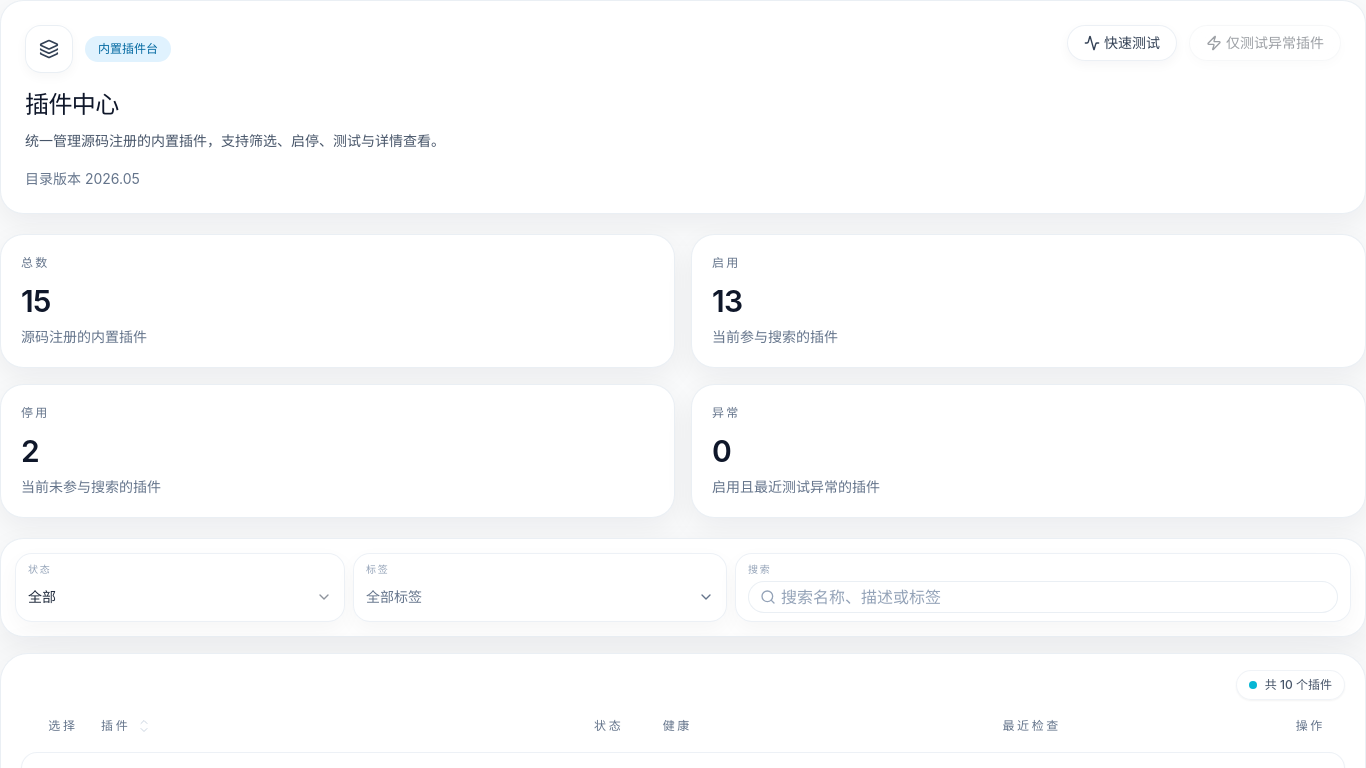
Scenario: PluginManagementView › 支持在筛选框内直接新增插件标签
The image size is (1366, 768).
Expected: the heading "插件中心" is shown, [25, 90, 119, 119]
Click the button with aria-label "插件标签筛选" at (394, 596), box [366, 581, 714, 613]
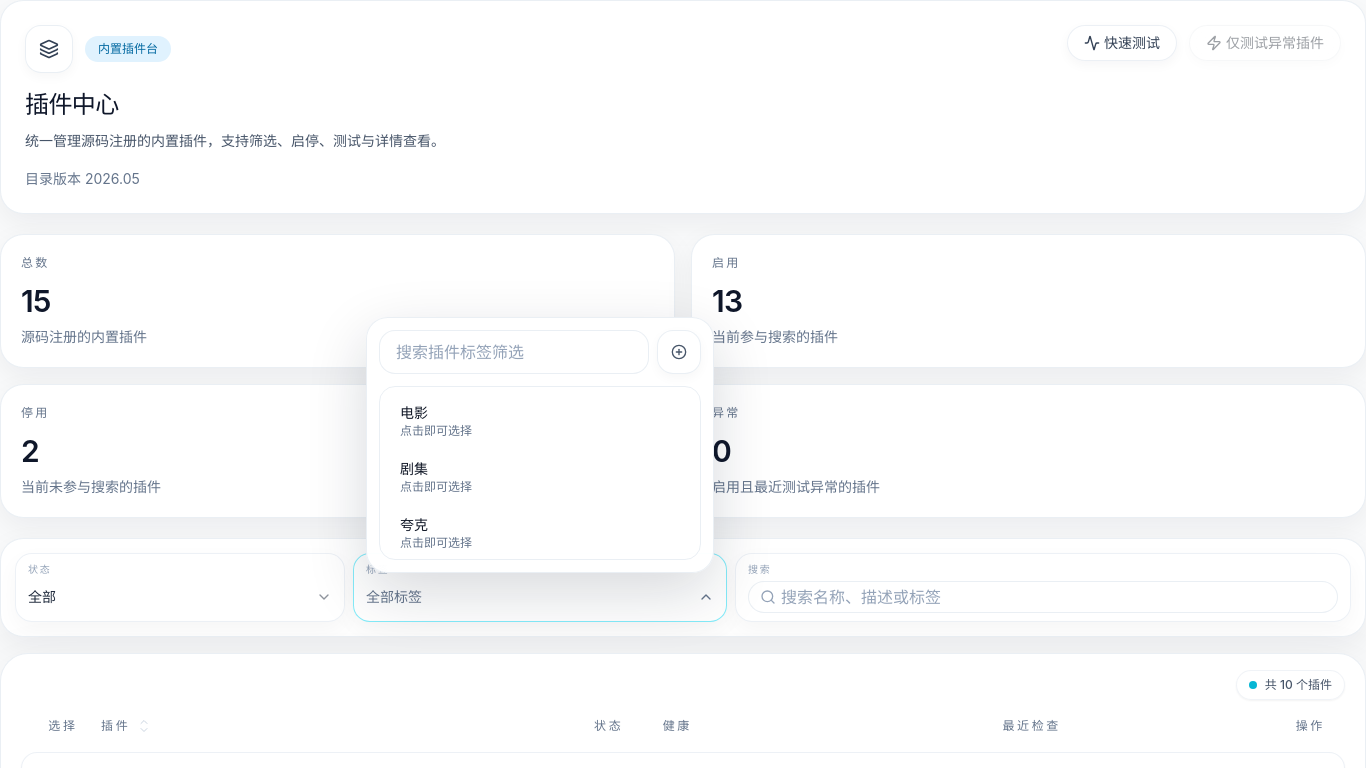
Type "筛选新增" into the field with placeholder "搜索插件标签筛选" at (514, 352), box [379, 330, 649, 374]
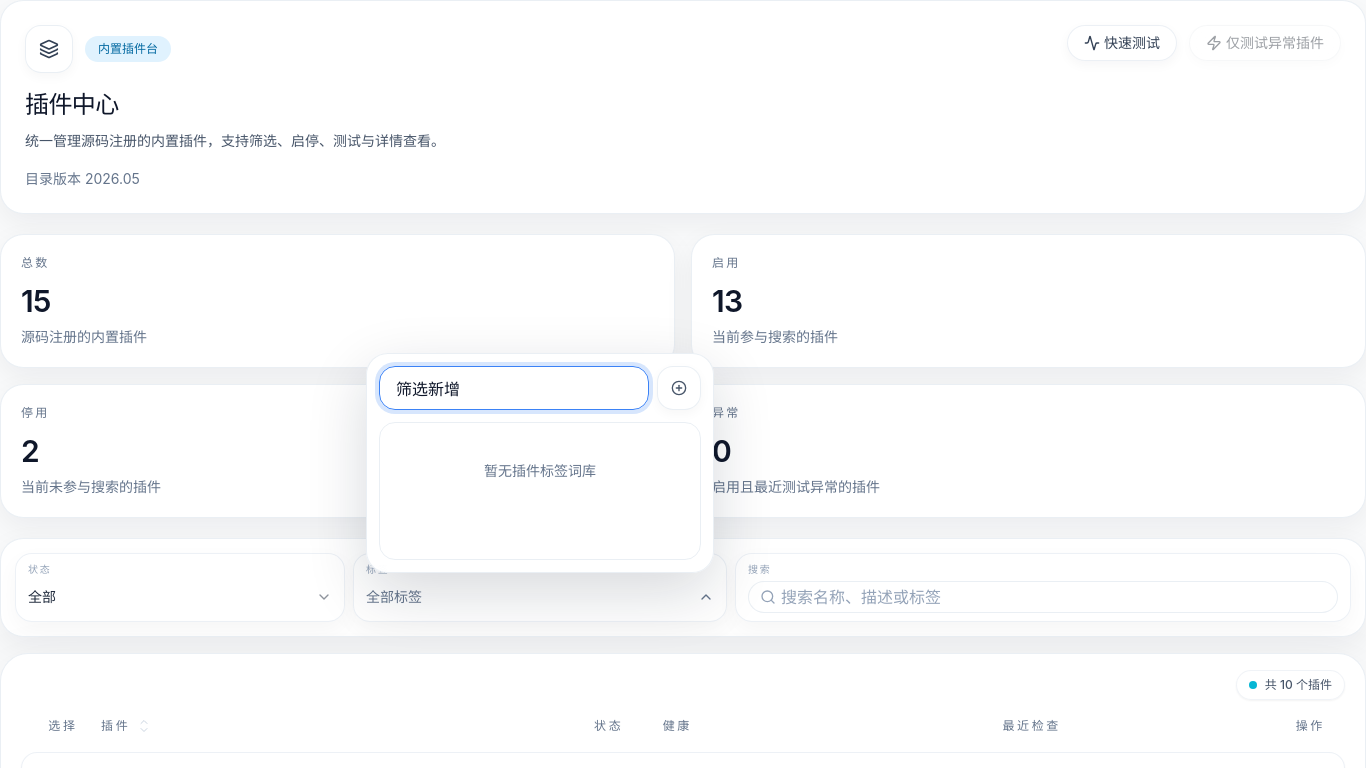
Click the button named "新增标签 筛选新增" at (679, 388), box [657, 366, 701, 410]
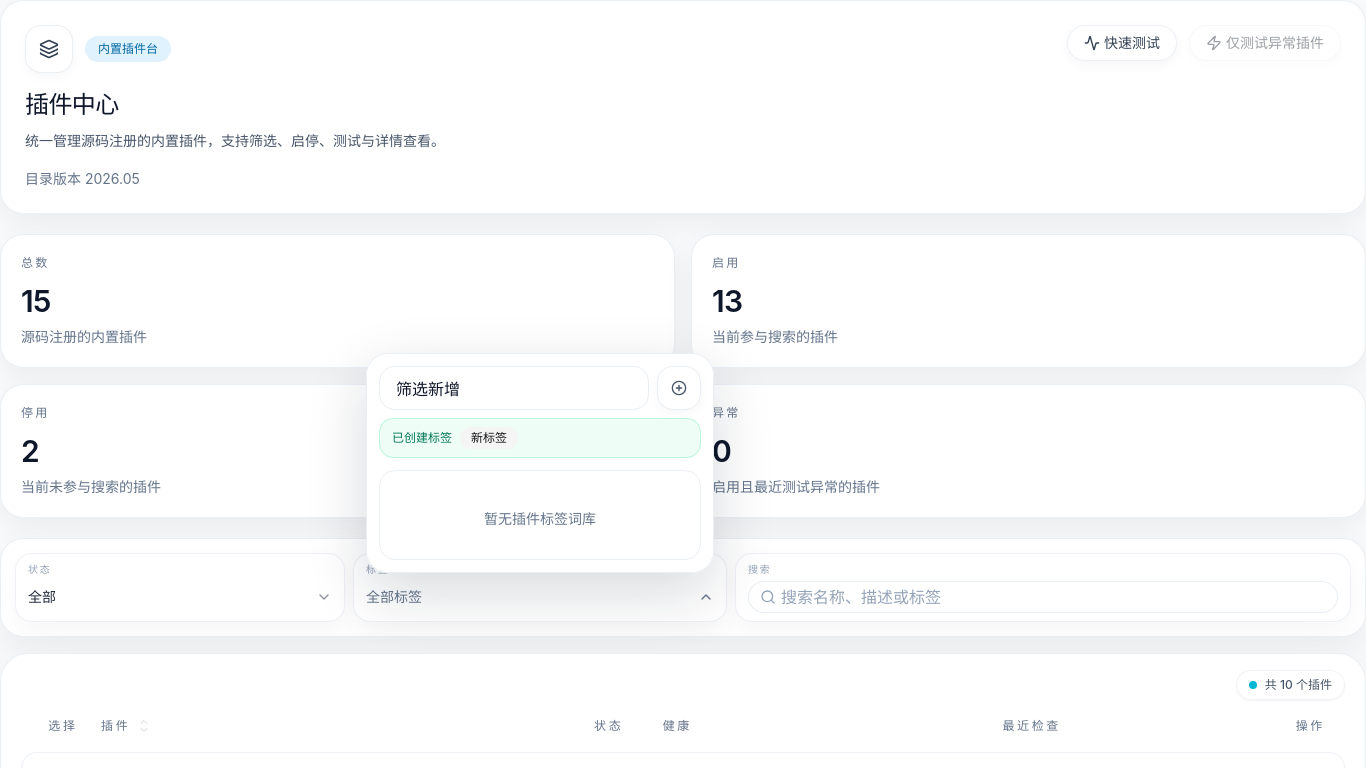
Now the text "已创建标签" is shown, box [392, 430, 452, 446]
Now the text "新标签" is shown, box [460, 427, 518, 449]
